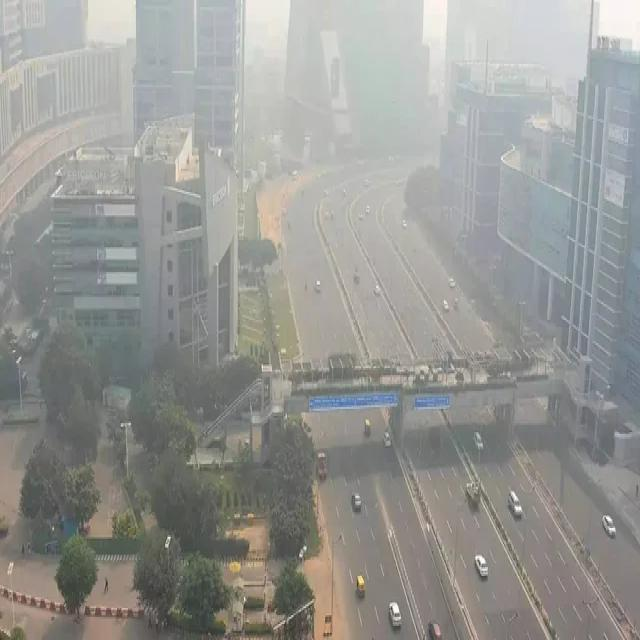no-low traffic: (318, 396, 620, 640), (282, 168, 481, 356)
